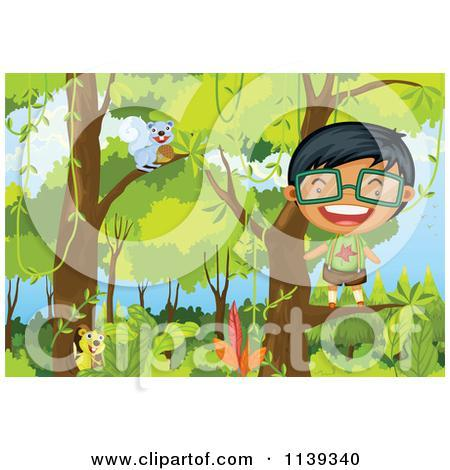person: (279, 120, 417, 313)
